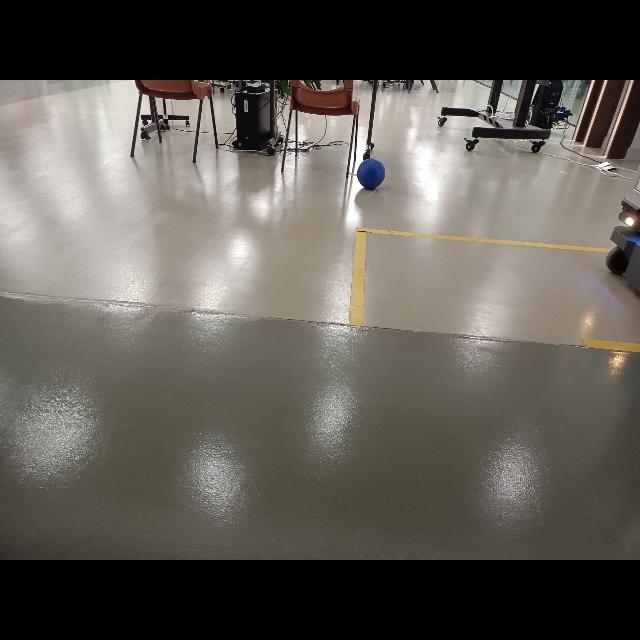B: (357, 158, 385, 190)
